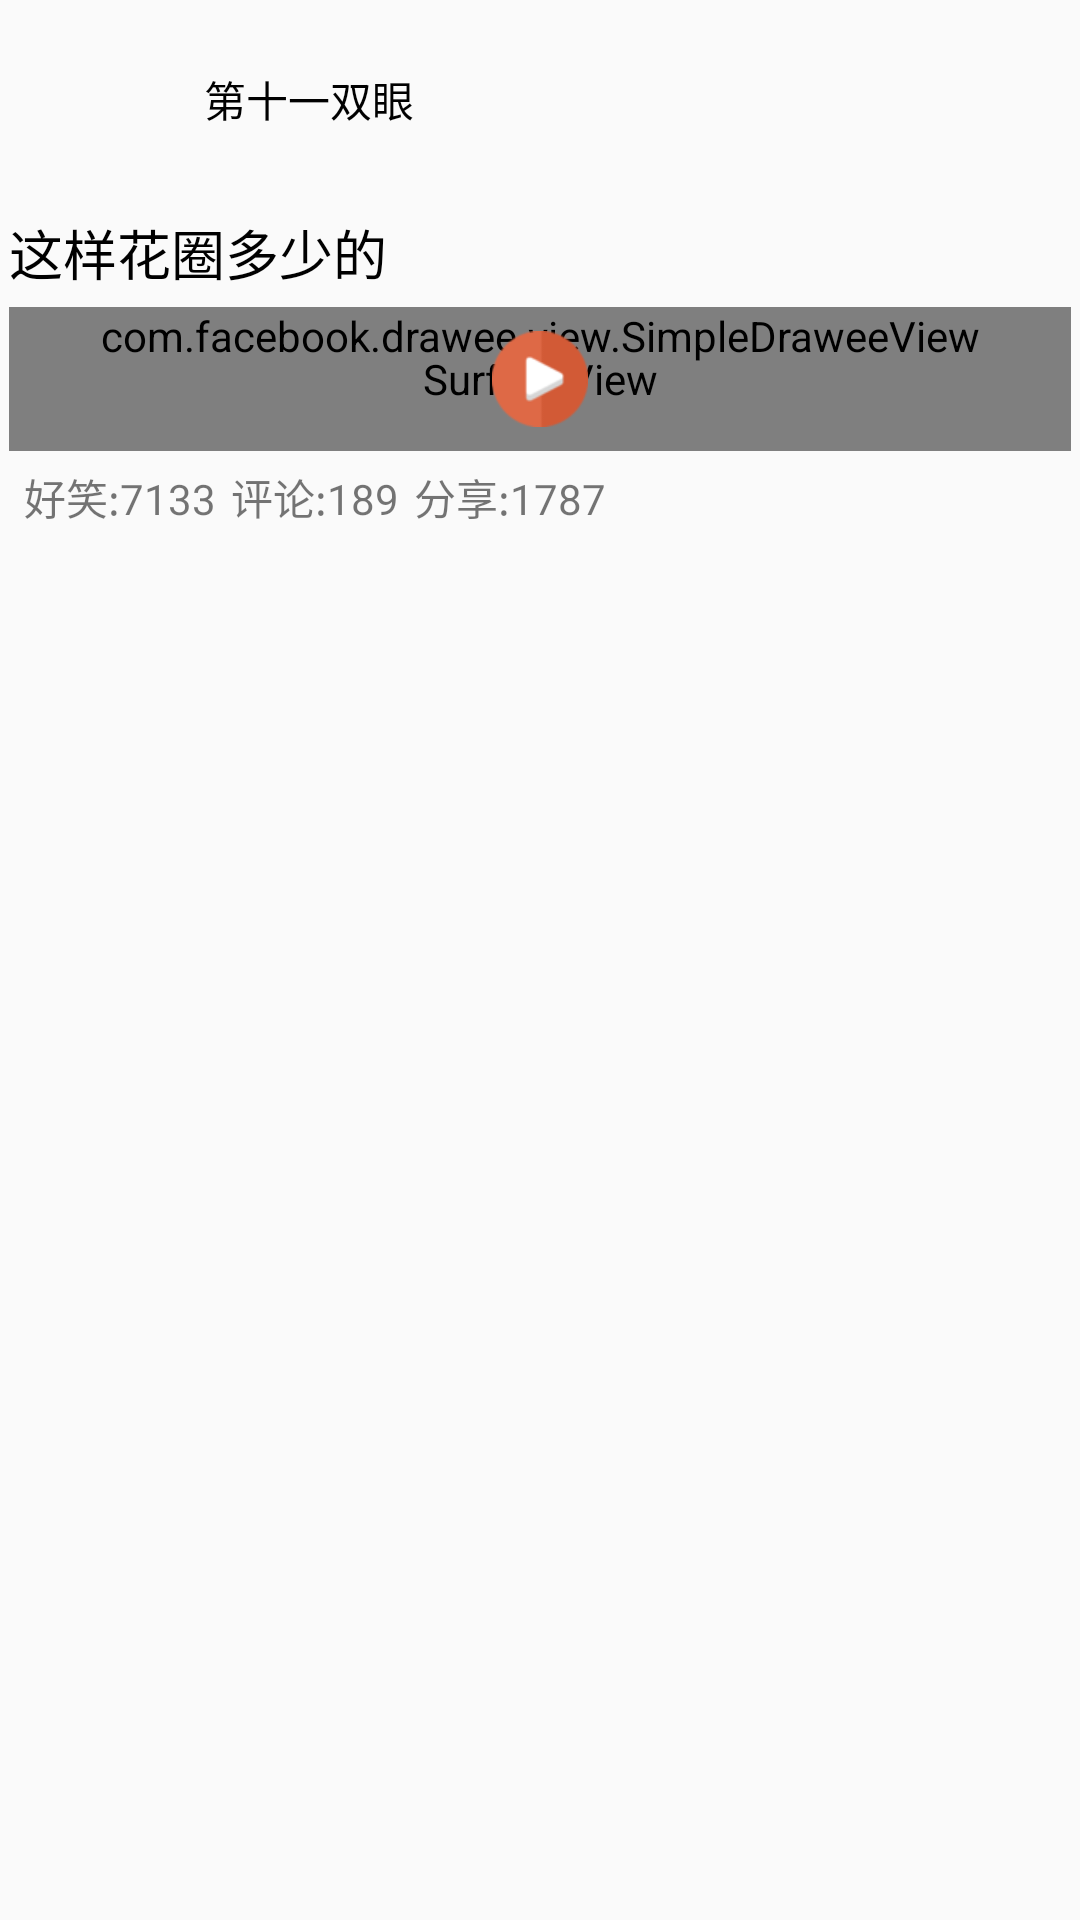

Named icons in this screenshot (1080 x 1920) and their centers, (x=x, y=y):
play: (x=540, y=379)
